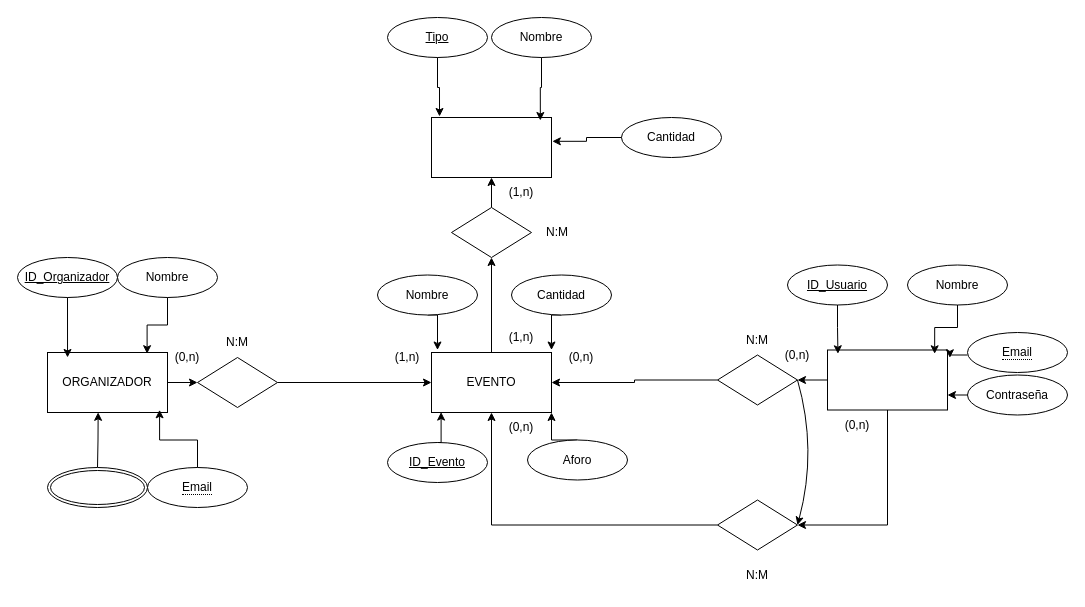
This 1085x607 diagram has some shape labels left out. Here are the shapes that lost their labels. From the top down, the box of each, then its label:
(430, 116, 552, 178): CATEGORIA
(450, 206, 532, 258): pertenece
(196, 356, 278, 408): organiza
(716, 354, 798, 405): asiste
(826, 349, 948, 410): USUARIO
(46, 466, 148, 508): Teléfono
(716, 499, 798, 550): inscribe
